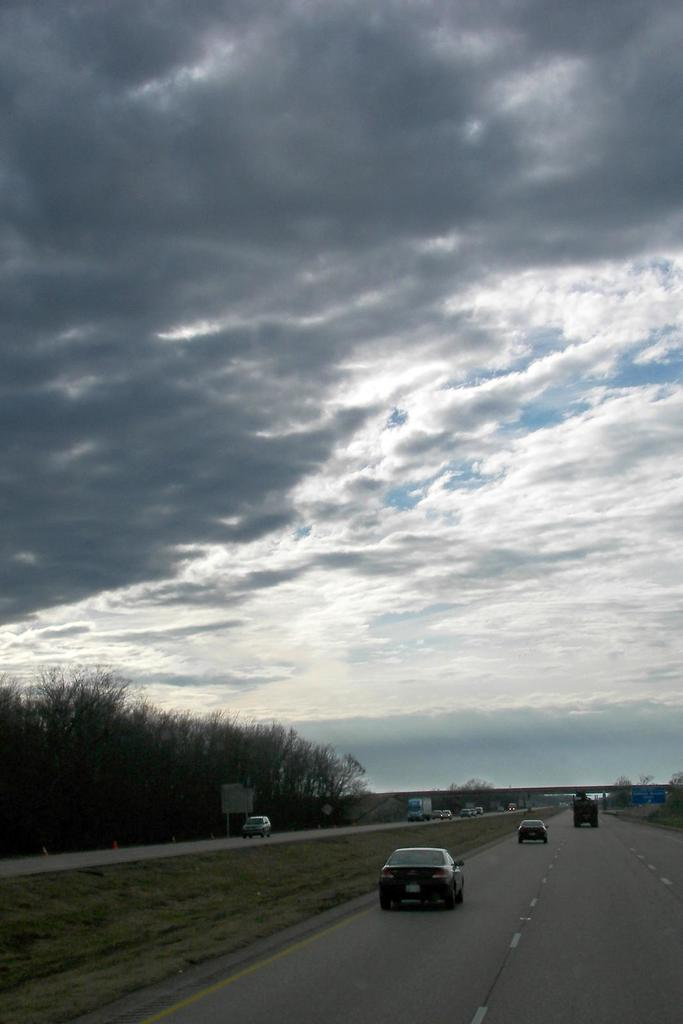cars: (375, 845, 466, 914), (236, 812, 271, 836), (516, 816, 546, 840), (460, 810, 471, 817), (438, 811, 451, 816)
